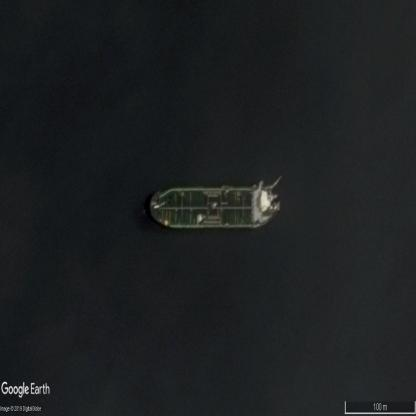ship: (147, 184, 280, 230)
